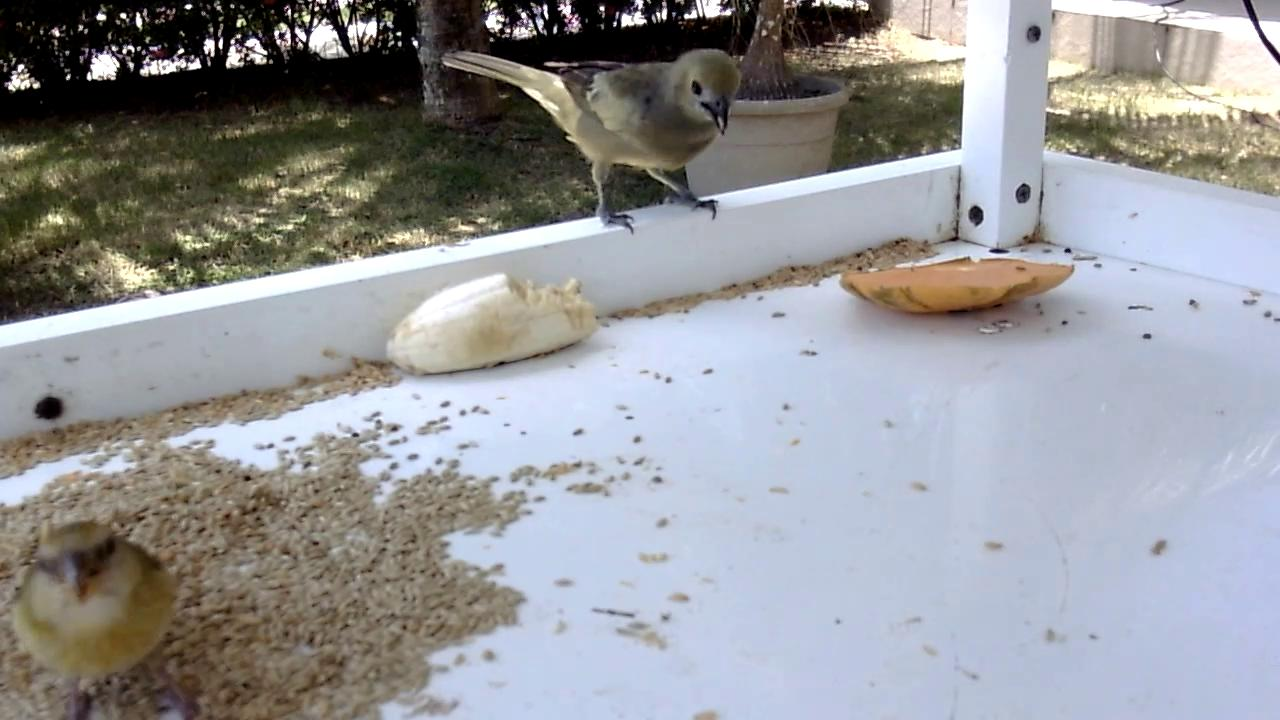canario_do_amazonas: (1, 520, 178, 720)
sanhaco_do_coqueiro: (442, 50, 741, 235)
